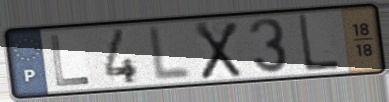3: (247, 17, 290, 76)
4: (102, 27, 141, 86)
L: (295, 12, 342, 74), (147, 23, 194, 84), (47, 33, 93, 88)
X: (192, 20, 244, 82)
